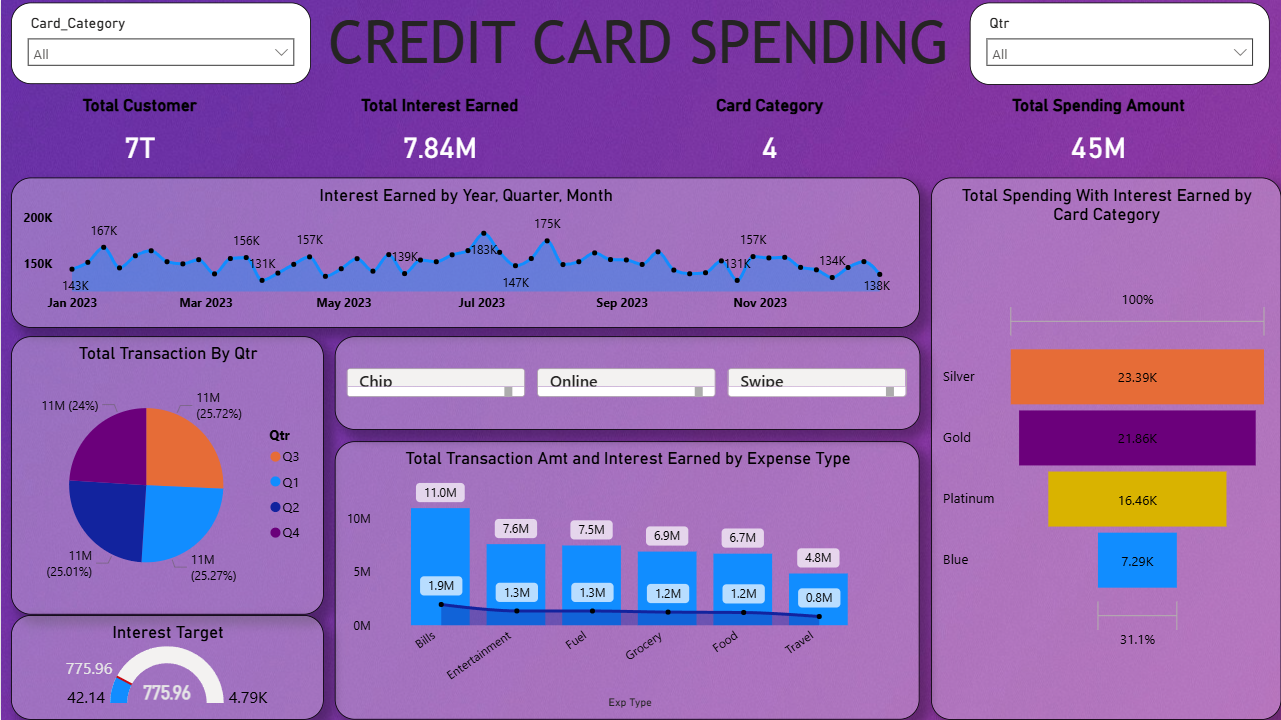

The dashboard page shown, as its layout file describes it:
{"tool":"powerbi","page":{"name":"Page 1","canvas":[1280,720],"ordinal":0},"visuals":[{"type":"textbox","box":[322.5,2.5,635,82.5],"z":1000},{"type":"slicer","fields":{"Values":["credit_card.Card_Category"]},"box":[10,2.5,300,81.2],"z":2000},{"type":"slicer","fields":{"Values":["credit_card.Qtr"]},"box":[968.8,2.5,300,82.5],"z":3000},{"type":"card","title":"Total Customer","fields":{"Values":["Sum(credit_card.Client_Num)"]},"box":[10,95,257.5,82.5],"z":4000},{"type":"card","title":"Total Interest Earned","fields":{"Values":["Sum(credit_card.Interest_Earned)"]},"box":[310,95,257.5,82.5],"z":5000},{"type":"card","title":"Card Category","fields":{"Values":["Count(credit_card.Card_Category)"]},"box":[640,95,257.5,82.5],"z":6000},{"type":"card","title":"Total Spending Amount","fields":{"Values":["Sum(credit_card.Total_Trans_Amt)"]},"box":[968.8,95,257.5,82.5],"z":7000},{"type":"lineChart","title":"Interest Earned by Year, Quarter, Month","fields":{"Y":["Sum(credit_card.Interest_Earned)"],"Category":["credit_card.Week_Start_Date.Variation.Date Hierarchy.Year","credit_card.Week_Start_Date.Variation.Date Hierarchy.Quarter","credit_card.Week_Start_Date.Variation.Date Hierarchy.Month","credit_card.Week_Start_Date.Variation.Date Hierarchy.Day"]},"box":[10,177.5,908.8,150],"z":8000},{"type":"pieChart","title":"Total Transaction By Qtr","fields":{"Category":["credit_card.Qtr"],"Y":["Sum(credit_card.Total_Trans_Amt)"]},"box":[10,336.2,312.5,278.8],"z":9000},{"type":"funnel","title":"Total Spending With Interest Earned by Card Category","fields":{"Category":["credit_card.Card_Category","credit_card.Use Chip"],"Y":["Avg(credit_card.Credit_Limit)"]},"box":[930,177.5,350,542.5],"z":10000},{"type":"lineStackedColumnComboChart","title":"Total Transaction Amt and Interest Earned by Expense Type","fields":{"Category":["credit_card.Exp Type"],"Y":["Sum(credit_card.Total_Trans_Amt)"],"Y2":["Sum(credit_card.Interest_Earned)"]},"box":[333.8,441.2,585,278.8],"z":11000},{"type":"gauge","title":"Interest Target","fields":{"Y":["Avg(credit_card.Interest_Earned)"],"MinValue":["credit_card.min intrest"],"MaxValue":["credit_card.max interest"],"TargetValue":["credit_card.avg interest"]},"box":[10,615,312.5,105],"z":11001},{"type":"cardVisual","fields":{"Rows":["credit_card.Use Chip"],"Data":["Sum(credit_card.Avg_Utilization_Ratio)"]},"box":[333.6,336.4,585.5,93.6],"z":11002}]}

Visuals, with their boxes in screenshot pixels (x1, y1, x2, y2), scaled from the page's 1280x720 canvas onto the 1281x720 screenshot:
textbox: (left=323, top=2, right=958, bottom=85)
slicer - credit_card.Card_Category: (left=10, top=2, right=310, bottom=84)
slicer - credit_card.Qtr: (left=970, top=2, right=1270, bottom=85)
"Total Customer" card: (left=10, top=95, right=268, bottom=178)
"Total Interest Earned" card: (left=310, top=95, right=568, bottom=178)
"Card Category" card: (left=640, top=95, right=898, bottom=178)
"Total Spending Amount" card: (left=970, top=95, right=1227, bottom=178)
"Interest Earned by Year, Quarter, Month" lineChart: (left=10, top=178, right=920, bottom=328)
"Total Transaction By Qtr" pieChart: (left=10, top=336, right=323, bottom=615)
"Total Spending With Interest Earned by Card Category" funnel: (left=931, top=178, right=1280, bottom=719)
"Total Transaction Amt and Interest Earned by Expense Type" lineStackedColumnComboChart: (left=334, top=441, right=920, bottom=719)
"Interest Target" gauge: (left=10, top=615, right=323, bottom=719)
cardVisual - credit_card.Use Chip x Sum(credit_card.Avg_Utilization_Ratio): (left=334, top=336, right=920, bottom=430)
